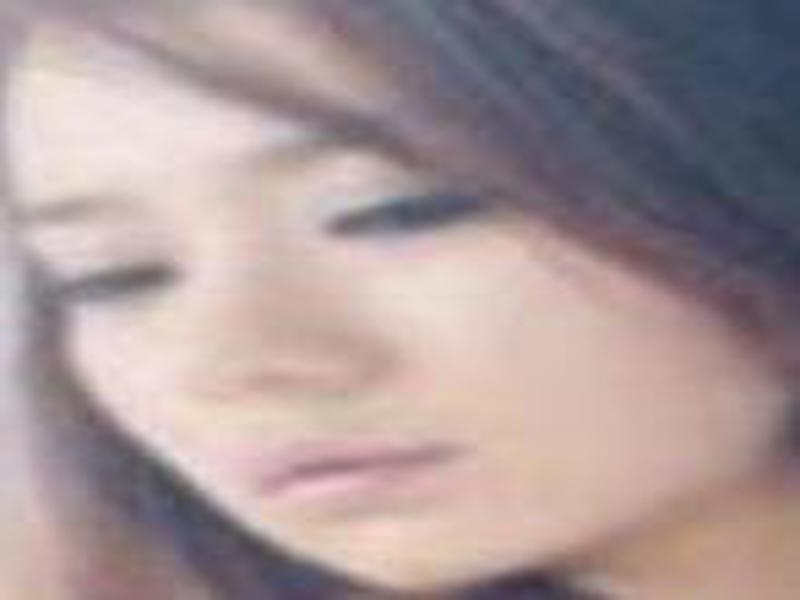without_mask: (12, 16, 746, 589)
